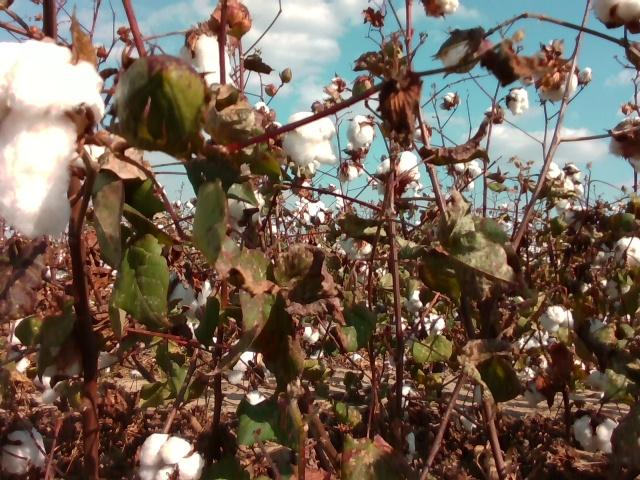cotton_ready: (0, 39, 107, 237), (180, 33, 236, 89), (139, 433, 205, 480), (284, 111, 336, 167), (0, 428, 49, 475), (441, 30, 483, 76), (573, 414, 621, 454), (226, 187, 266, 234), (167, 272, 212, 311), (380, 150, 419, 180), (227, 348, 255, 387), (593, 0, 640, 22), (347, 114, 375, 148), (613, 238, 640, 270)
